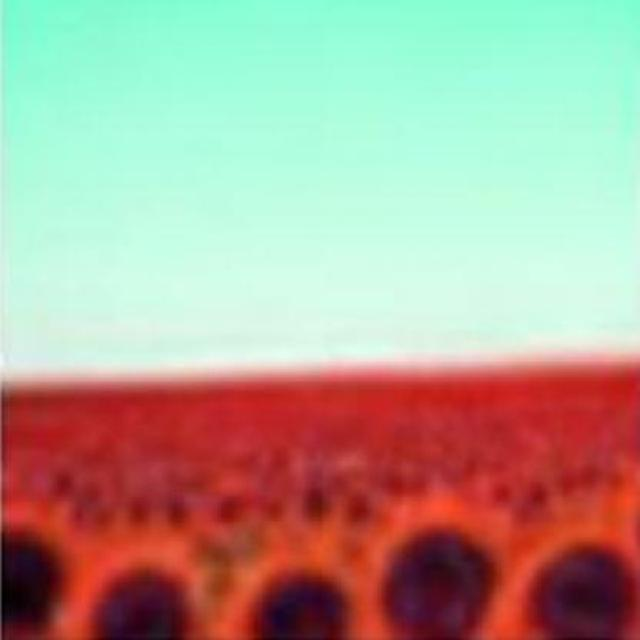sunflower: (366, 495, 516, 640)
